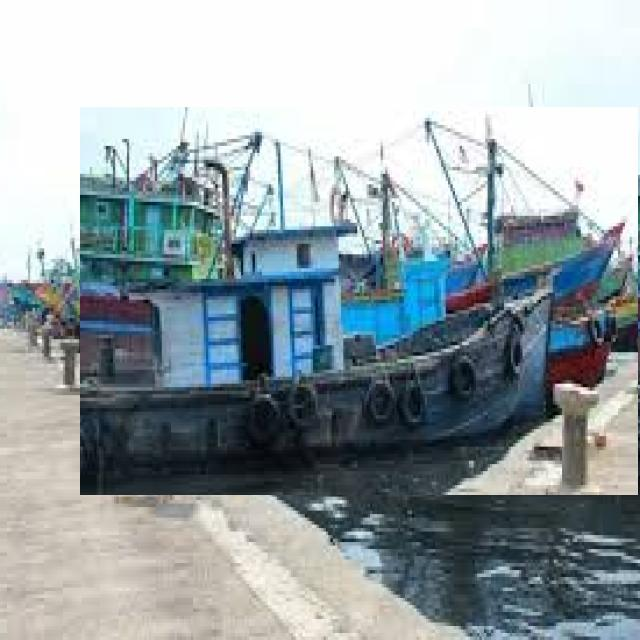Fishing Boat: (80, 108, 638, 496)
